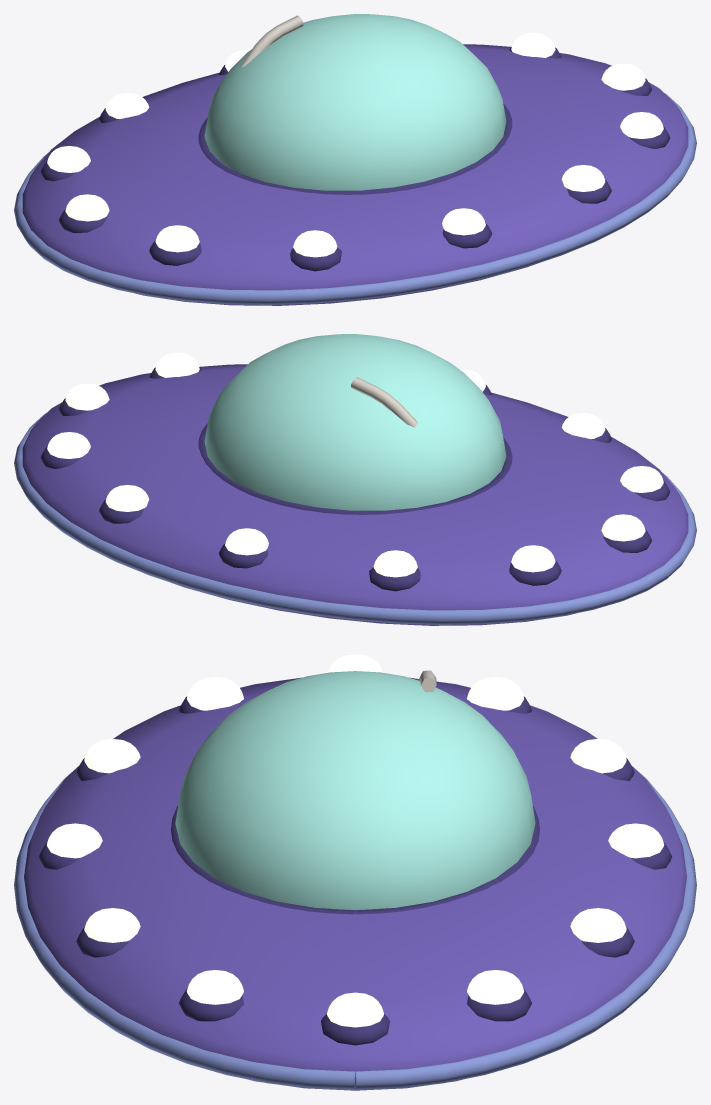
The model's file is ufo.glb.
3 renders of one model, top to bottom at view 1: azimuth 30°, elevation 25°; view 2: azimuth 150°, elevation 25°; view 3: azimuth 270°, elevation 25°, orthographic. The views are drawn at different scales.
Parts seen in each view (by area): view 1: ufo.Moving.vinyl, ufo.Moving.ceramic, ufo.Light10.lens, ufo.Light11.lens, ufo.Light9.lens, ufo.Light0.lens, ufo.Light1.lens, ufo.Light2.lens, ufo.Light3.lens, ufo.Light8.lens, ufo.Light4.lens, ufo.Light7.lens; view 2: ufo.Moving.vinyl, ufo.Moving.ceramic, ufo.Light8.lens, ufo.Light7.lens, ufo.Light9.lens, ufo.Light6.lens, ufo.Light5.lens, ufo.Light4.lens, ufo.Light3.lens, ufo.Light10.lens, ufo.Light2.lens, ufo.Light11.lens; view 3: ufo.Moving.vinyl, ufo.Moving.ceramic, ufo.Light2.lens, ufo.Light3.lens, ufo.Light4.lens, ufo.Light1.lens, ufo.Light5.lens, ufo.Light0.lens, ufo.Light6.lens, ufo.Light8.lens, ufo.Light10.lens, ufo.Light7.lens (+2 smaller).
Boxes of the visible parts, x1=… form: ufo.Moving.vinyl: x1=14, y1=15, x2=696, y2=305; ufo.Moving.ceramic: x1=204, y1=14, x2=506, y2=190; ufo.Light10.lens: x1=155, y1=225, x2=199, y2=252; ufo.Light11.lens: x1=293, y1=230, x2=337, y2=257; ufo.Light9.lens: x1=65, y1=194, x2=109, y2=221; ufo.Light0.lens: x1=442, y1=208, x2=485, y2=235; ufo.Light1.lens: x1=561, y1=165, x2=605, y2=191; ufo.Light2.lens: x1=620, y1=112, x2=663, y2=138; ufo.Light3.lens: x1=601, y1=63, x2=645, y2=90; ufo.Light8.lens: x1=47, y1=146, x2=90, y2=172; ufo.Light4.lens: x1=511, y1=32, x2=555, y2=57; ufo.Light7.lens: x1=105, y1=93, x2=149, y2=118; ufo.Moving.vinyl: x1=14, y1=364, x2=696, y2=625; ufo.Moving.ceramic: x1=204, y1=334, x2=506, y2=510; ufo.Light8.lens: x1=511, y1=545, x2=555, y2=572; ufo.Light7.lens: x1=373, y1=550, x2=417, y2=577; ufo.Light9.lens: x1=601, y1=514, x2=645, y2=541; ufo.Light6.lens: x1=225, y1=528, x2=268, y2=555; ufo.Light5.lens: x1=105, y1=485, x2=149, y2=511; ufo.Light4.lens: x1=47, y1=432, x2=90, y2=458; ufo.Light3.lens: x1=65, y1=383, x2=109, y2=410; ufo.Light10.lens: x1=620, y1=466, x2=663, y2=492; ufo.Light2.lens: x1=155, y1=352, x2=199, y2=377; ufo.Light11.lens: x1=561, y1=413, x2=605, y2=438; ufo.Moving.vinyl: x1=14, y1=670, x2=696, y2=1090; ufo.Moving.ceramic: x1=175, y1=671, x2=535, y2=909; ufo.Light2.lens: x1=186, y1=970, x2=243, y2=1004; ufo.Light3.lens: x1=327, y1=992, x2=383, y2=1027; ufo.Light4.lens: x1=467, y1=970, x2=524, y2=1004; ufo.Light1.lens: x1=84, y1=908, x2=140, y2=942; ufo.Light5.lens: x1=570, y1=908, x2=626, y2=942; ufo.Light0.lens: x1=46, y1=823, x2=102, y2=858; ufo.Light6.lens: x1=608, y1=823, x2=664, y2=858; ufo.Light8.lens: x1=467, y1=677, x2=524, y2=710; ufo.Light10.lens: x1=186, y1=677, x2=243, y2=710; ufo.Light7.lens: x1=570, y1=739, x2=626, y2=773.
Size of the model in its own units: 14.1 by 4.63 by 10.24.
